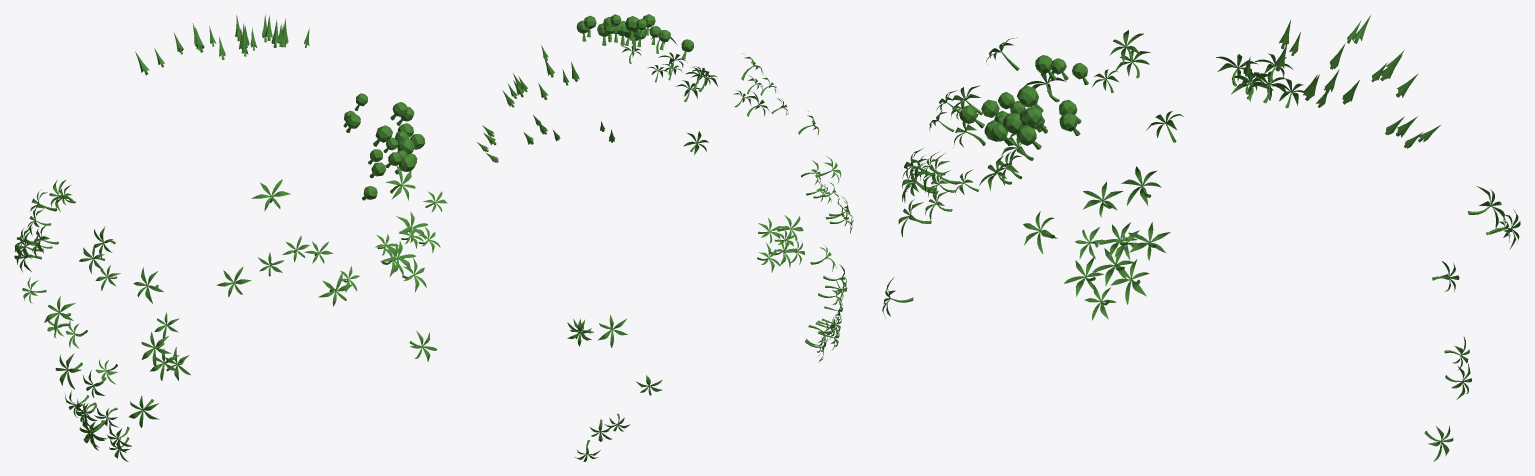
Rendered from trees.gltf.
3 views of the same model, side by side, from view 1: azimuth 30°, elevation 25°; view 2: azimuth 150°, elevation 25°; view 3: azimuth 270°, elevation 25° (orthographic). The views are drawn at different scales.
Parts seen in each view (by area): view 1: TREE4, TREE1, TREE3, TREE2; view 2: TREE4, TREE1, TREE2, TREE3; view 3: TREE1, TREE4, TREE3, TREE2.
Part boxes in pixels (x1=…): TREE4: x1=216, y1=93, x2=447, y2=361; TREE1: x1=14, y1=205, x2=190, y2=461; TREE3: x1=135, y1=14, x2=309, y2=75; TREE2: x1=22, y1=180, x2=117, y2=384; TREE4: x1=576, y1=14, x2=819, y2=155; TREE1: x1=757, y1=156, x2=853, y2=362; TREE2: x1=567, y1=315, x2=662, y2=461; TREE3: x1=477, y1=45, x2=615, y2=162; TREE1: x1=979, y1=30, x2=1304, y2=320; TREE4: x1=882, y1=37, x2=1088, y2=317; TREE3: x1=1243, y1=14, x2=1440, y2=148; TREE2: x1=1424, y1=186, x2=1520, y2=461.
Bounding box in the file's own units: 0.5862 × 0.6642 × 0.7901.
